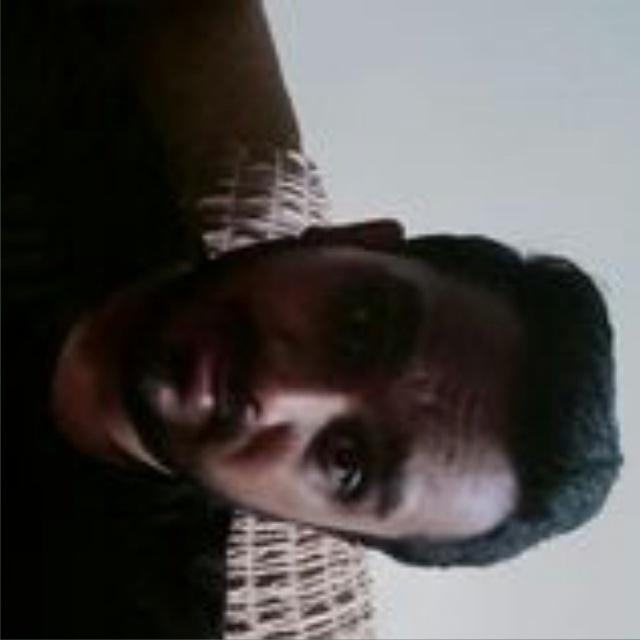Surprised: (100, 179, 594, 578)
